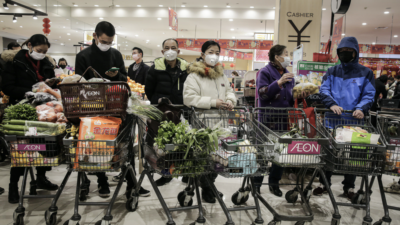with_mask: (205, 49, 221, 68), (29, 47, 50, 61), (96, 39, 114, 54), (163, 45, 178, 63), (338, 47, 353, 64), (280, 50, 291, 69), (130, 51, 141, 62), (59, 61, 67, 70), (388, 80, 394, 86), (232, 74, 236, 79), (394, 79, 398, 84)
